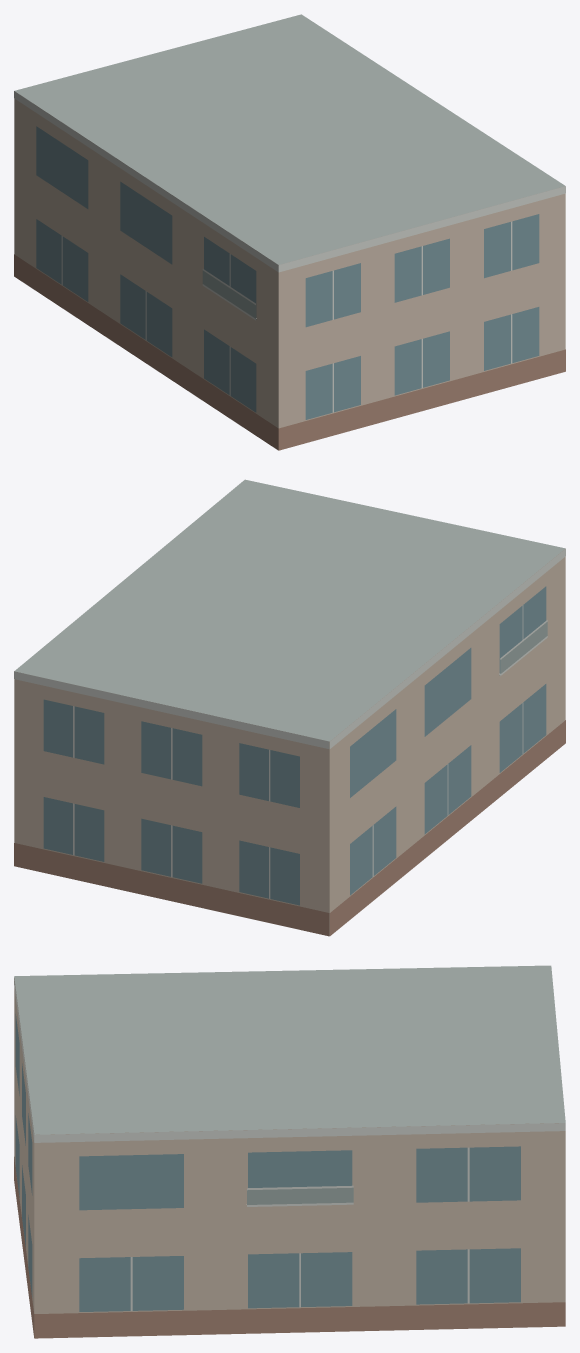
File: survey-upis-32751257.glb
3 views of the same model, one above another, from view 1: azimuth 30°, elevation 25°; view 2: azimuth 150°, elevation 25°; view 3: azimuth 270°, elevation 25° (orthographic). The views are drawn at different scales.
Parts seen in each view (by area): view 1: survey-upis-32751257.tmp; view 2: survey-upis-32751257.tmp; view 3: survey-upis-32751257.tmp.
Part boxes in pixels (left/top/right/bottom): survey-upis-32751257.tmp: left=14, top=14, right=565, bottom=450; survey-upis-32751257.tmp: left=14, top=479, right=565, bottom=936; survey-upis-32751257.tmp: left=14, top=965, right=565, bottom=1338.
Size of the model in its own units: 10.89 by 6.1 by 14.99.
